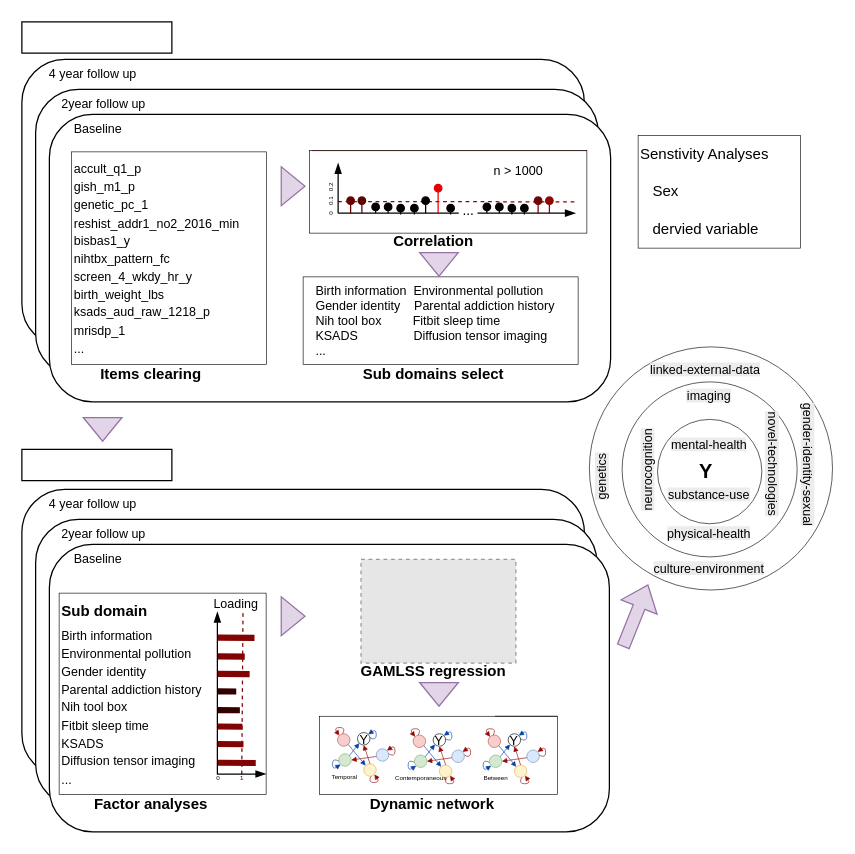
This 855x854 diagram has some shape labels left out. Grey dashed boxes stand in for pictures. Here are the shapes that lost their labels. From the top down, the centre of each, then its label:
At (x=96, y=37): "Item level analysis".
At (x=96, y=464): "Domains analysis".
